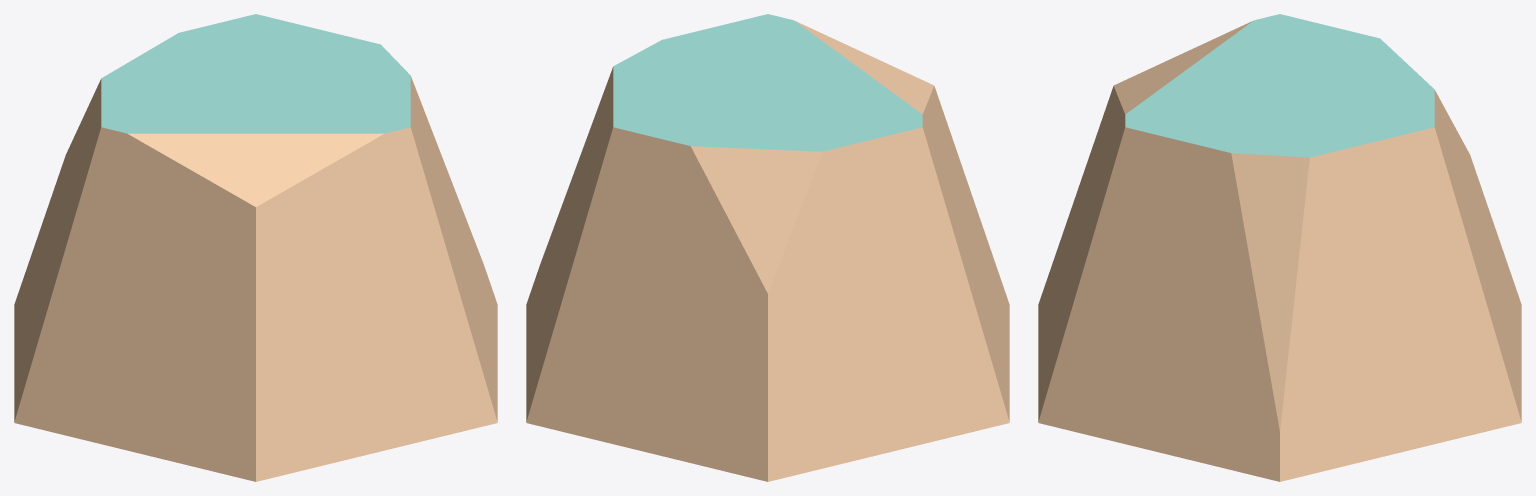
File: rock_small4.glb
3 views of the same model, side by side, from view 1: azimuth 30°, elevation 25°; view 2: azimuth 150°, elevation 25°; view 3: azimuth 270°, elevation 25° (orthographic).
Visible parts, largest first — view 1: rock_small4; view 2: rock_small4; view 3: rock_small4.
Boxes of the visible parts, left/top/right/bottom form: rock_small4: left=14, top=14, right=497, bottom=481; rock_small4: left=526, top=14, right=1009, bottom=481; rock_small4: left=1038, top=14, right=1521, bottom=481.
Size of the model in its own units: 0.4257 by 0.2309 by 0.3687.
